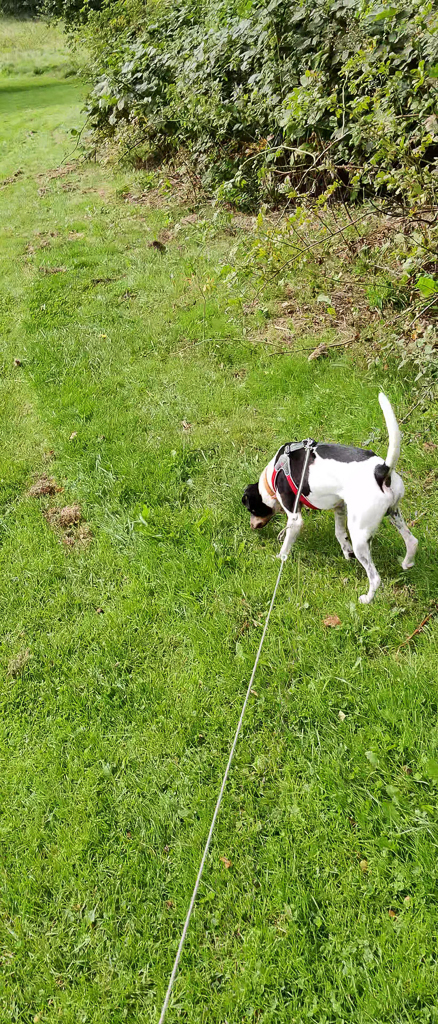Dog: (233, 383, 432, 625)
